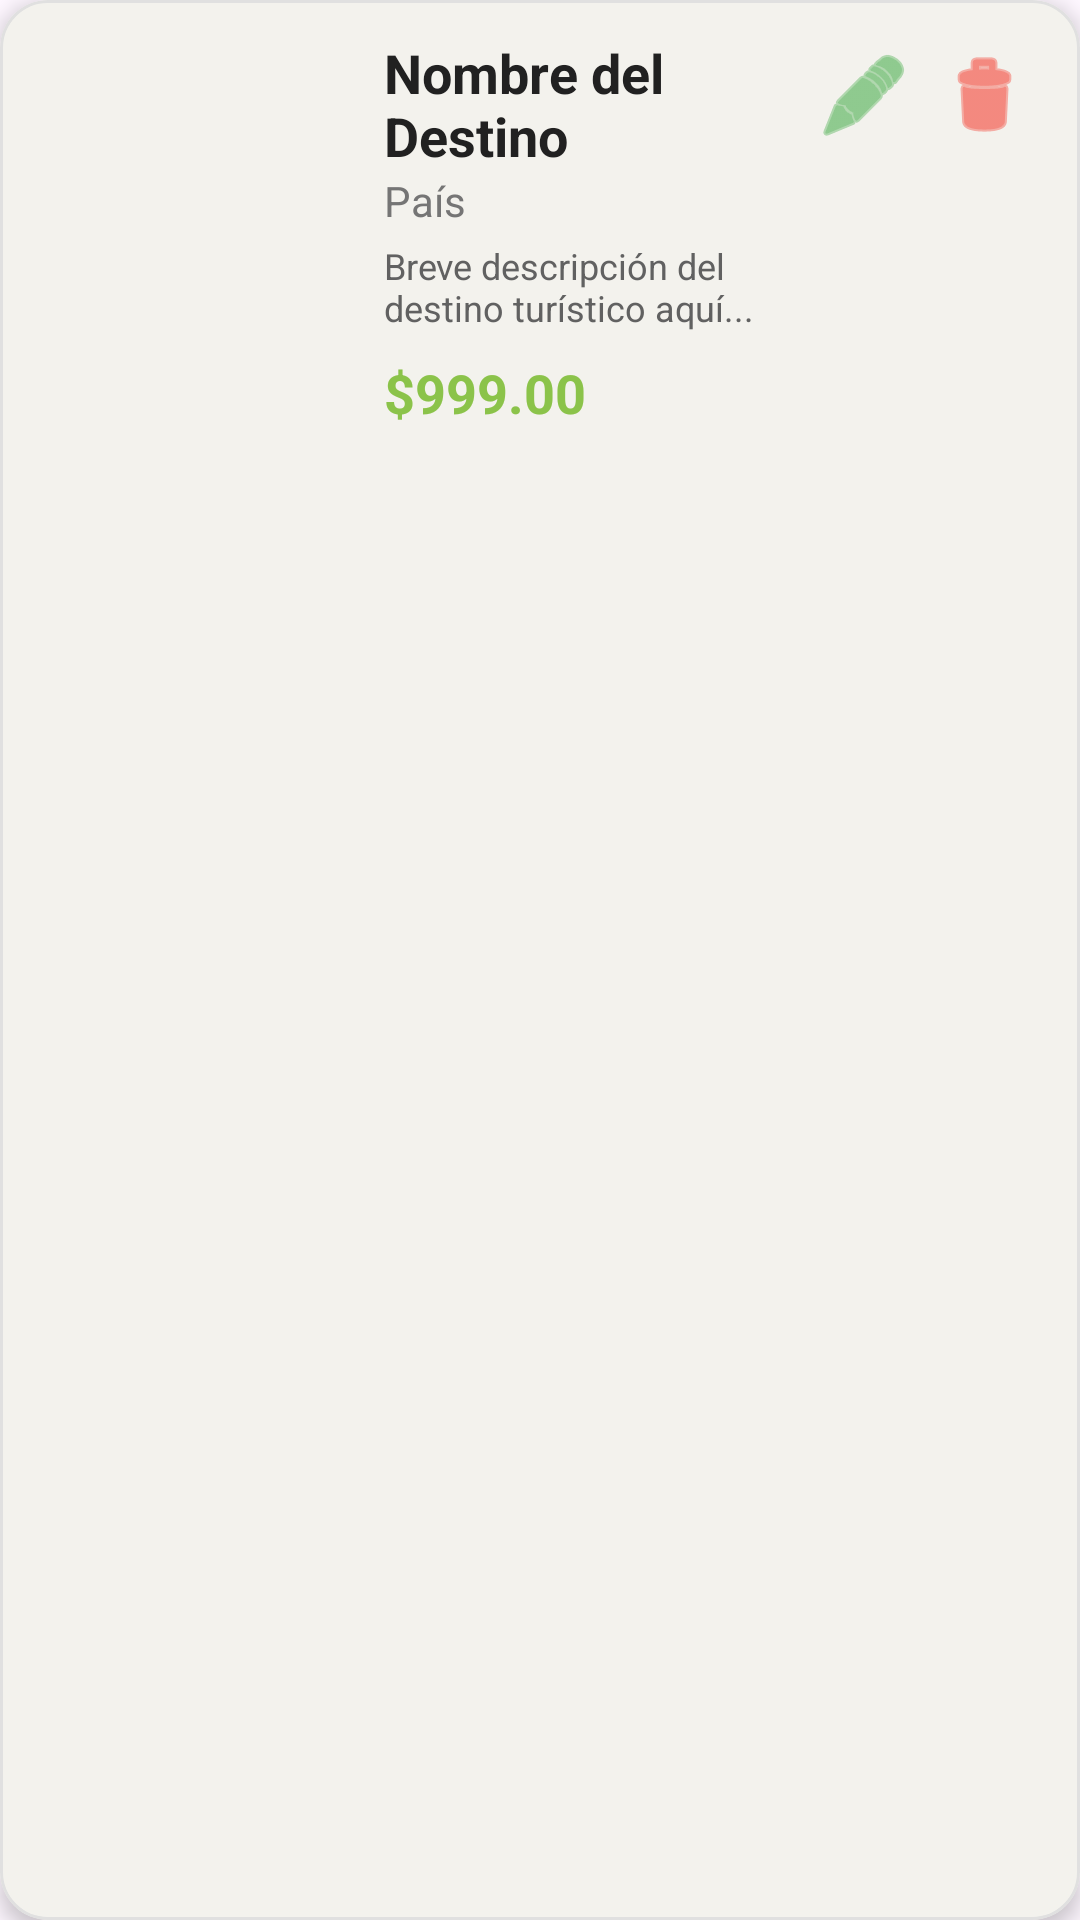

Icon click points for this 1080px×1920px phone screenshot, format (x,y):
Editar: (863,95)
Eliminar: (984,94)
